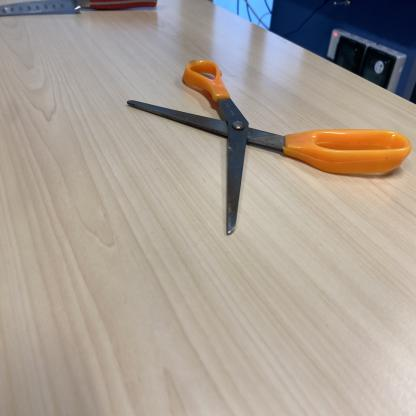Knife: (0, 0, 159, 22)
scissors: (128, 55, 412, 237)
